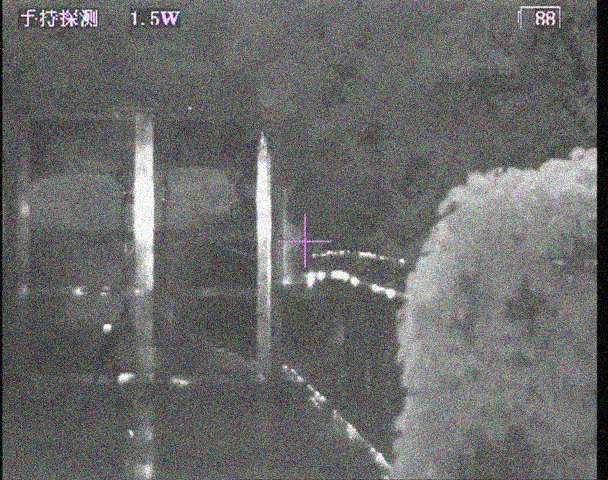my: (102, 323, 112, 333)
